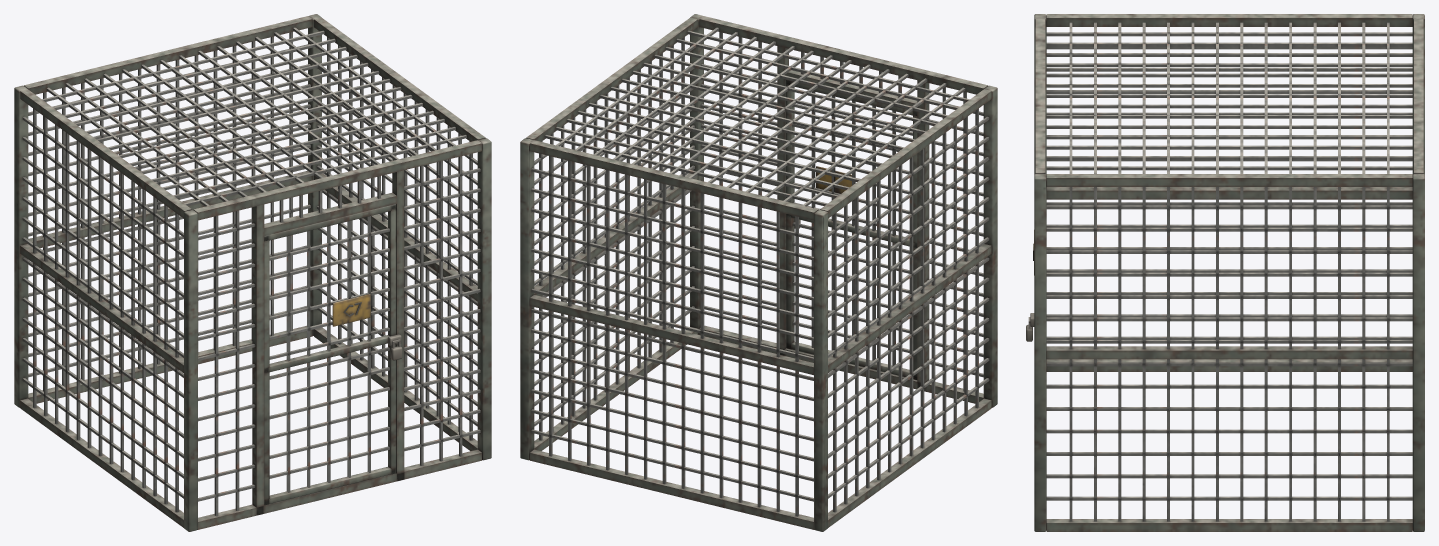
The model's file is floor_cage.fbx.
3 views of the same model, side by side, from view 1: azimuth 30°, elevation 25°; view 2: azimuth 150°, elevation 25°; view 3: azimuth 270°, elevation 25° (orthographic). The views are drawn at different scales.
Parts seen in each view (by area): view 1: Body, Door; view 2: Body, Door; view 3: Body.
Part boxes in pixels (box(x1,y1,x2,y2)): Body: box(14, 14, 491, 531); Door: box(264, 204, 402, 505); Body: box(520, 14, 997, 531); Door: box(786, 80, 917, 379); Body: box(1034, 14, 1424, 531).
Size of the model in its own units: 8 by 8 by 8.17.
Materials: 1 (1 with a texture image).
